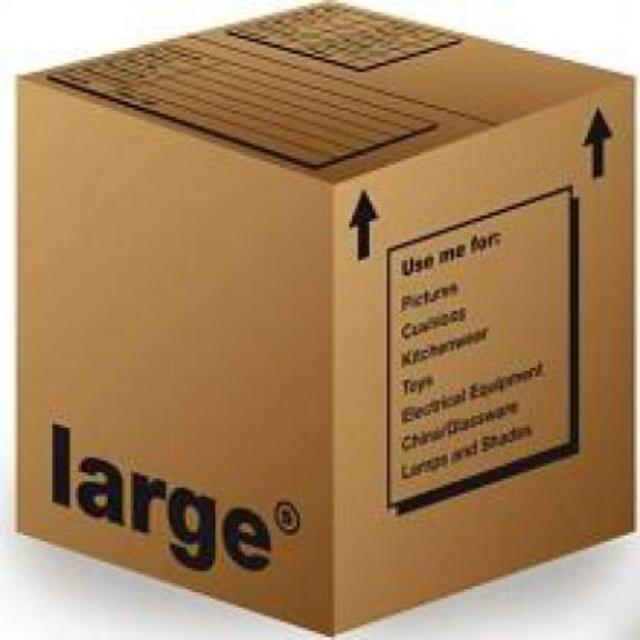cardboard_box: (9, 5, 638, 635)
